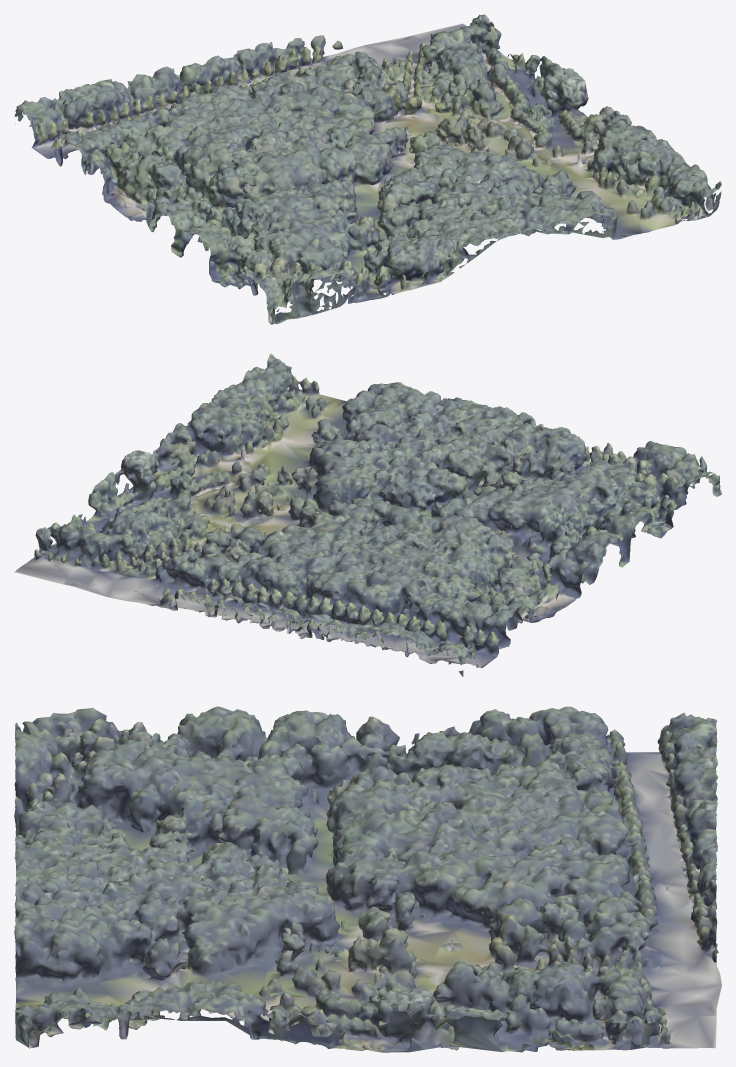
The model's file is tile-3890_58193.glb.
The picture shows the model from 3 angles, top to bottom: view 1: azimuth 30°, elevation 25°; view 2: azimuth 150°, elevation 25°; view 3: azimuth 270°, elevation 25°; orthographic projection. The views are drawn at different scales.
Parts seen in each view (by area): view 1: world; view 2: world; view 3: world.
Part boxes in pixels (x1=…): world: x1=14, y1=14, x2=721, y2=324; world: x1=14, y1=353, x2=721, y2=676; world: x1=14, y1=706, x2=721, y2=1052.
Size of the model in its own units: 363 by 33.37 by 364.
